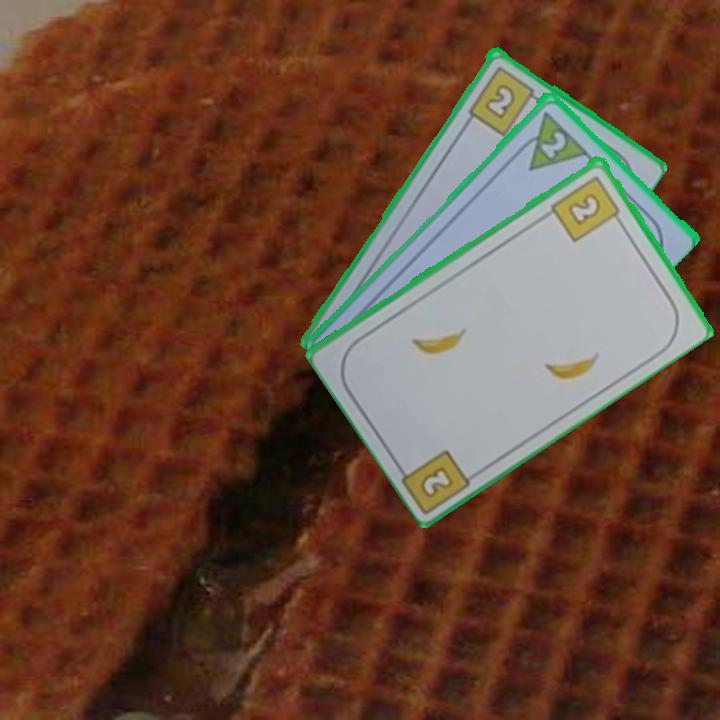2b: (464, 62, 544, 138), (547, 171, 625, 245), (416, 462, 457, 501)
2p: (537, 126, 569, 161)
